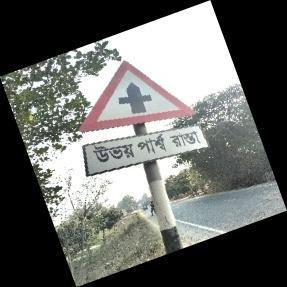Crossroad: (77, 58, 205, 179)
